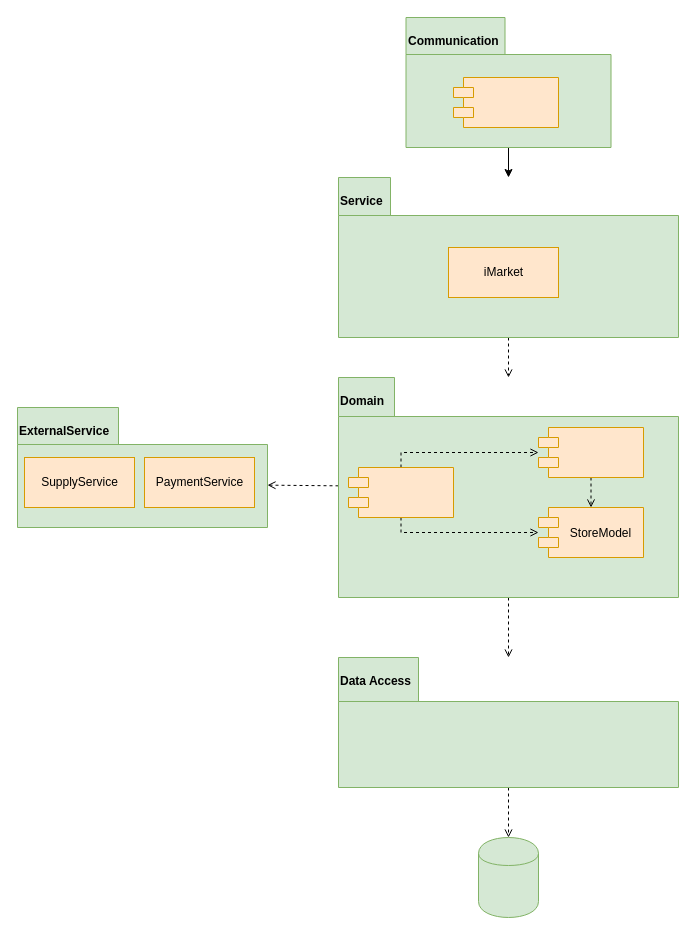
Image size: 696x935. Some labels were removed from this diagram. The shapes that lost their labels are listed below. From the top down, each one's centre as x and y in pixels, then its label:
(505,102): GUI
(591,452): UserModel
(401,492): Market
(508,877): Database
